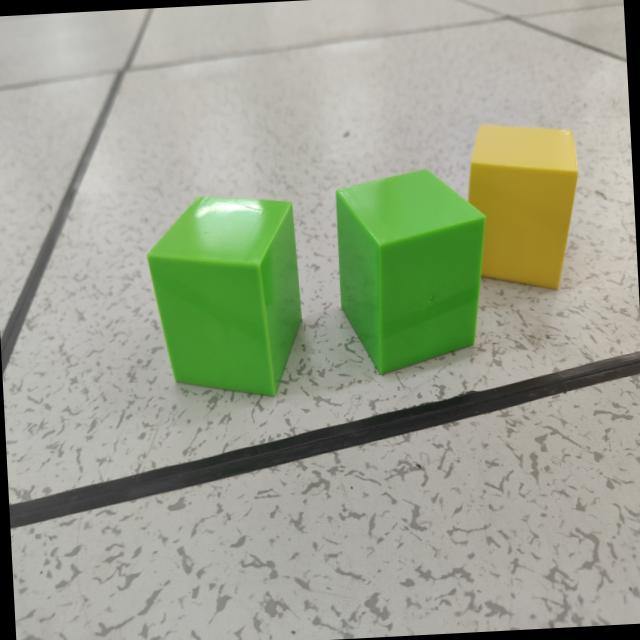green: (146, 198, 302, 398), (335, 171, 486, 376)
yellow: (468, 125, 579, 291)
